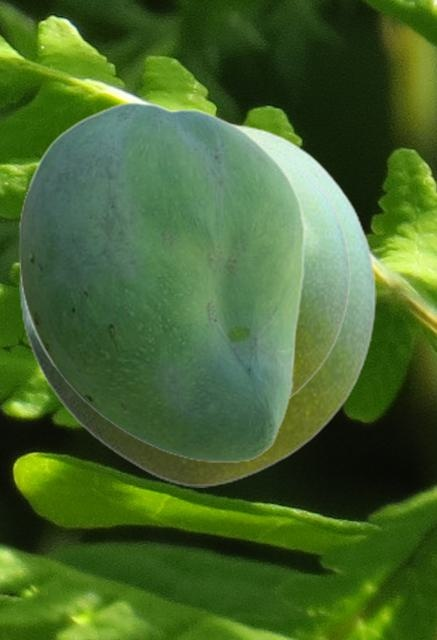green_mango: (19, 118, 375, 486), (18, 102, 304, 462), (250, 134, 349, 401)
